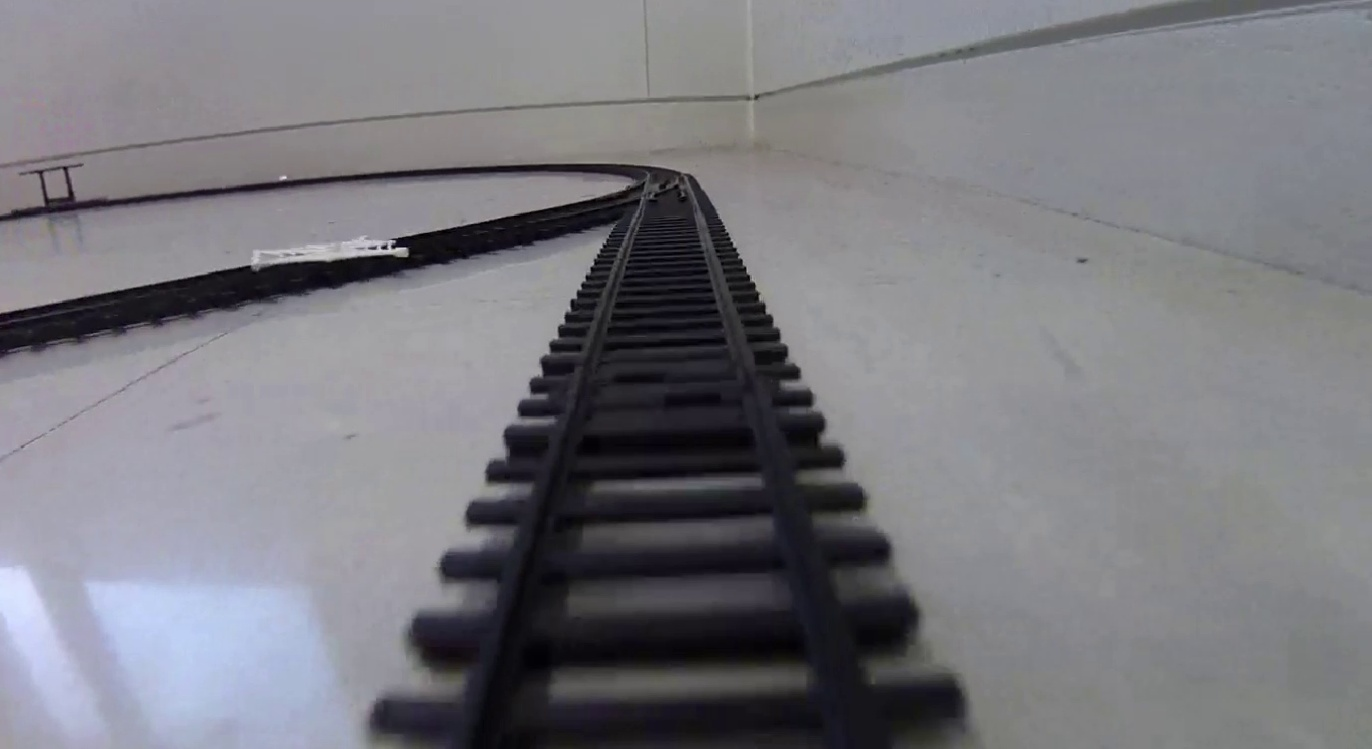web: (250, 233, 411, 271)
